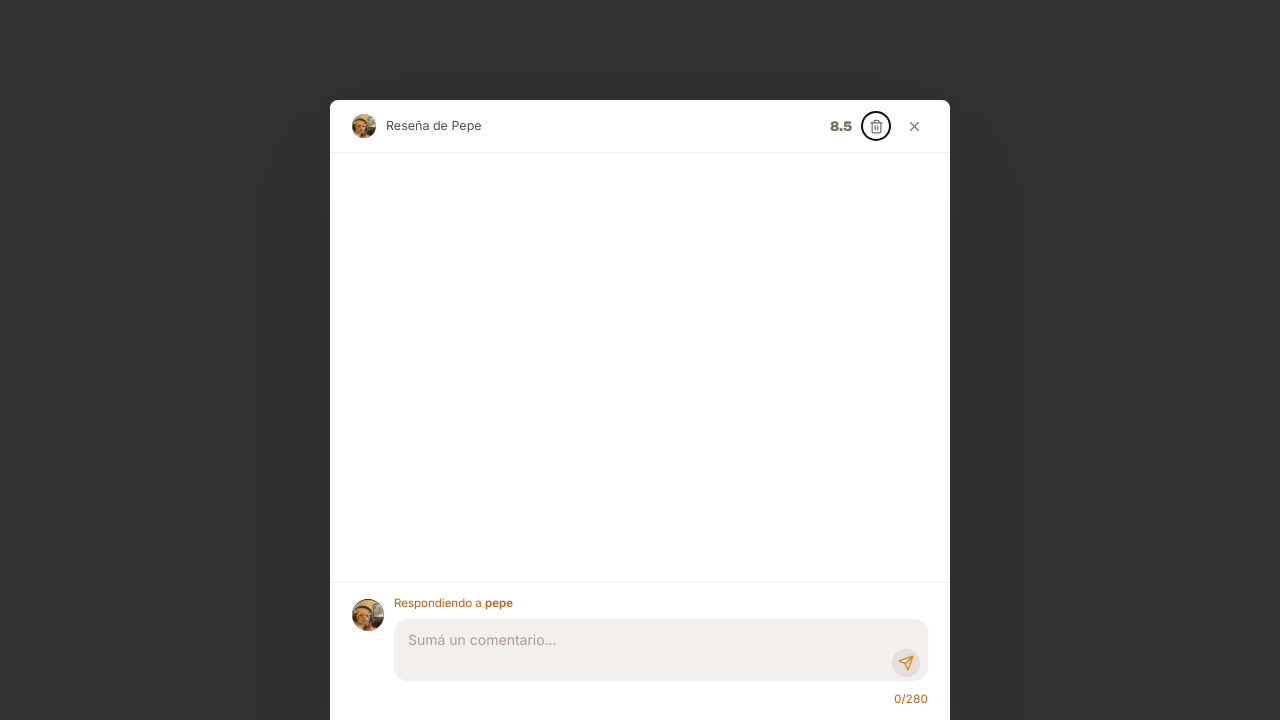
Scenario: ReviewDetailModal › asks to confirm inline before deleting, and "No" cancels
Click the button named "Borrar reseña". click: (876, 126)
box: [862, 112, 890, 140]
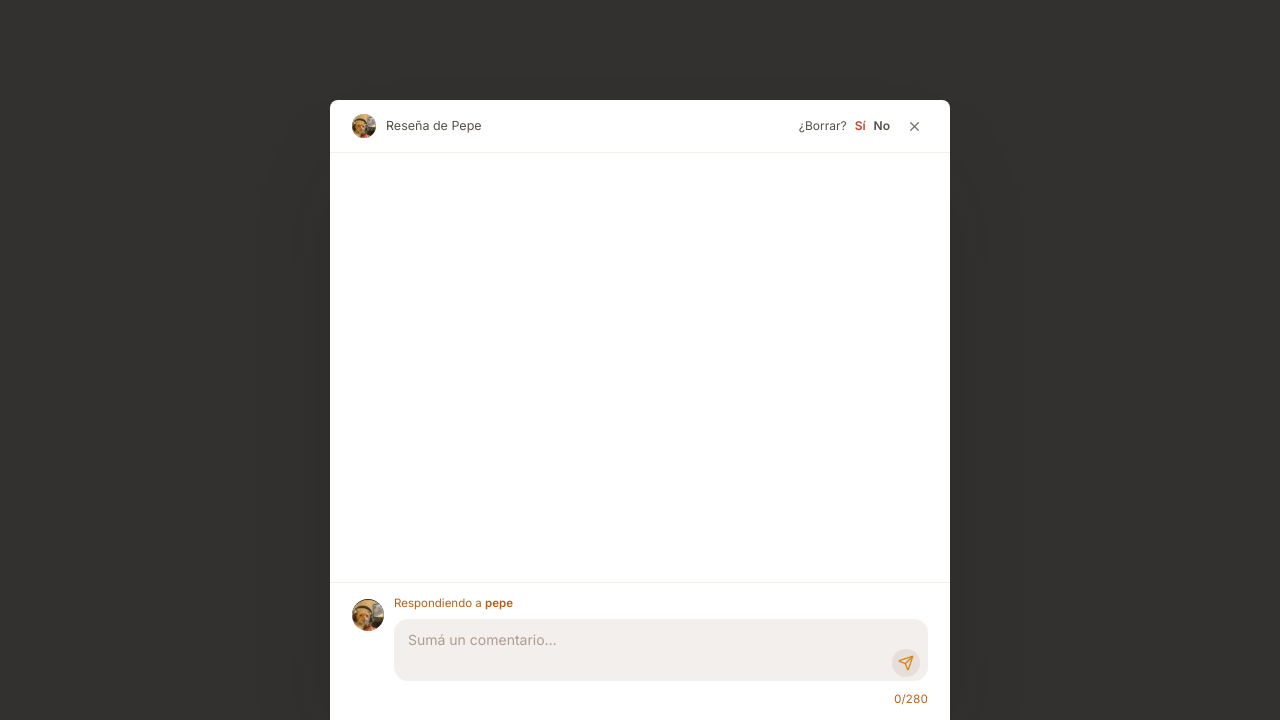
Expected: the text "¿Borrar?" is shown, [799, 117, 847, 135]
Click the button "No". click: (882, 126)
box: [874, 117, 890, 135]
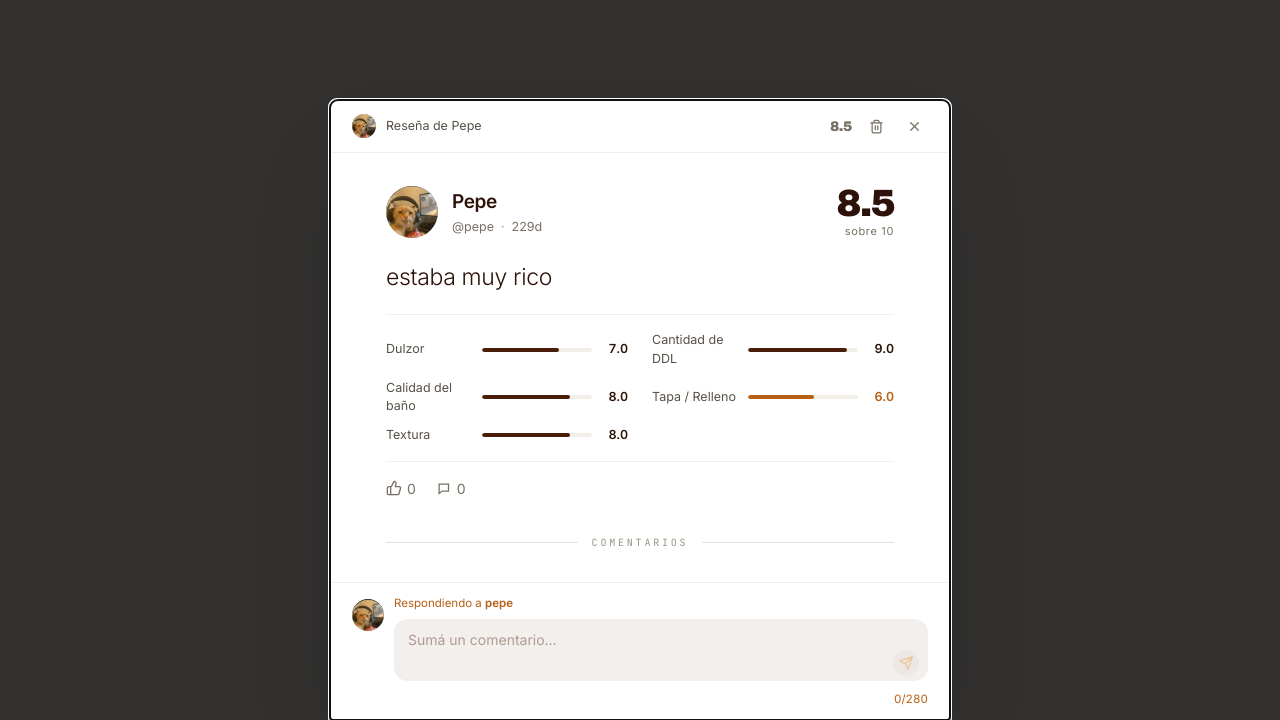
Expected: the text "¿Borrar?" is gone
Expected: the button named "Borrar reseña" is shown, [862, 112, 890, 140]
